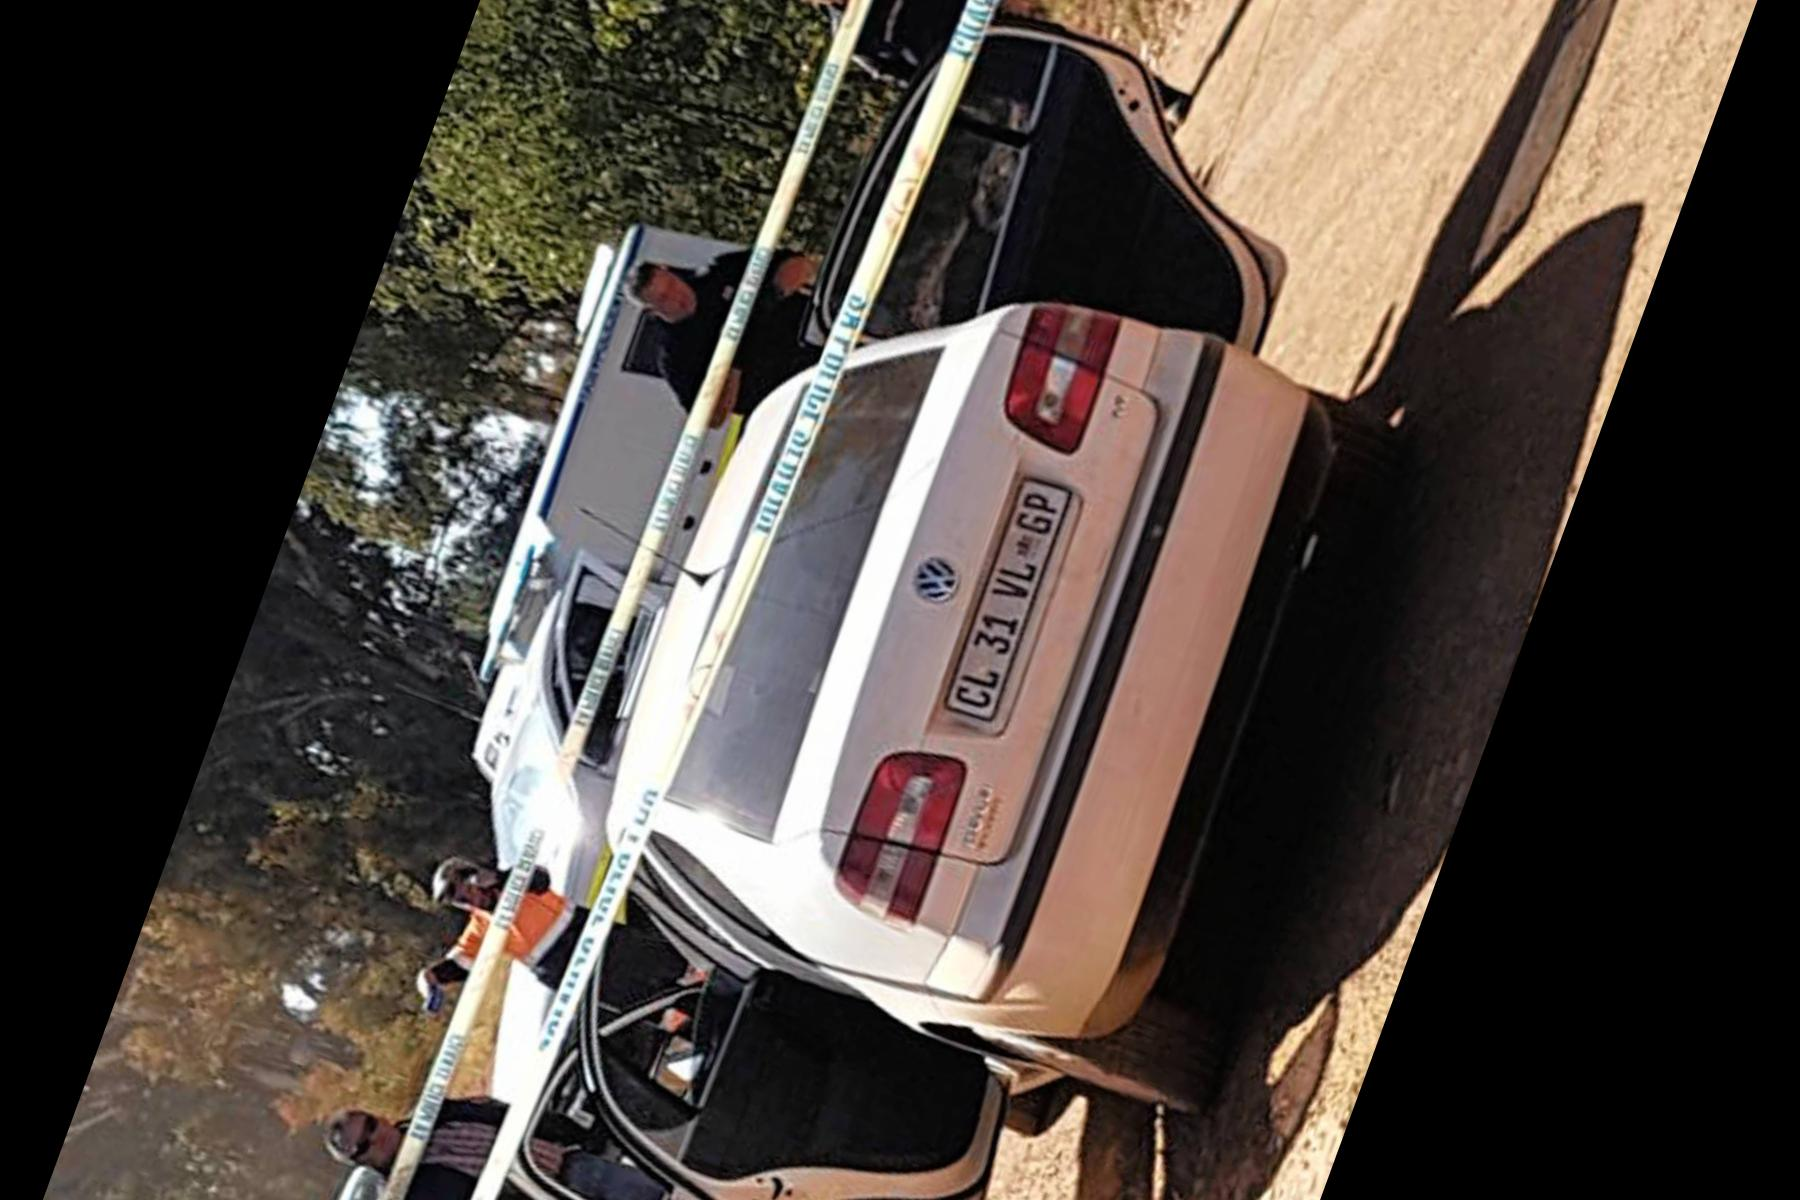plate: (908, 449, 1094, 757)
